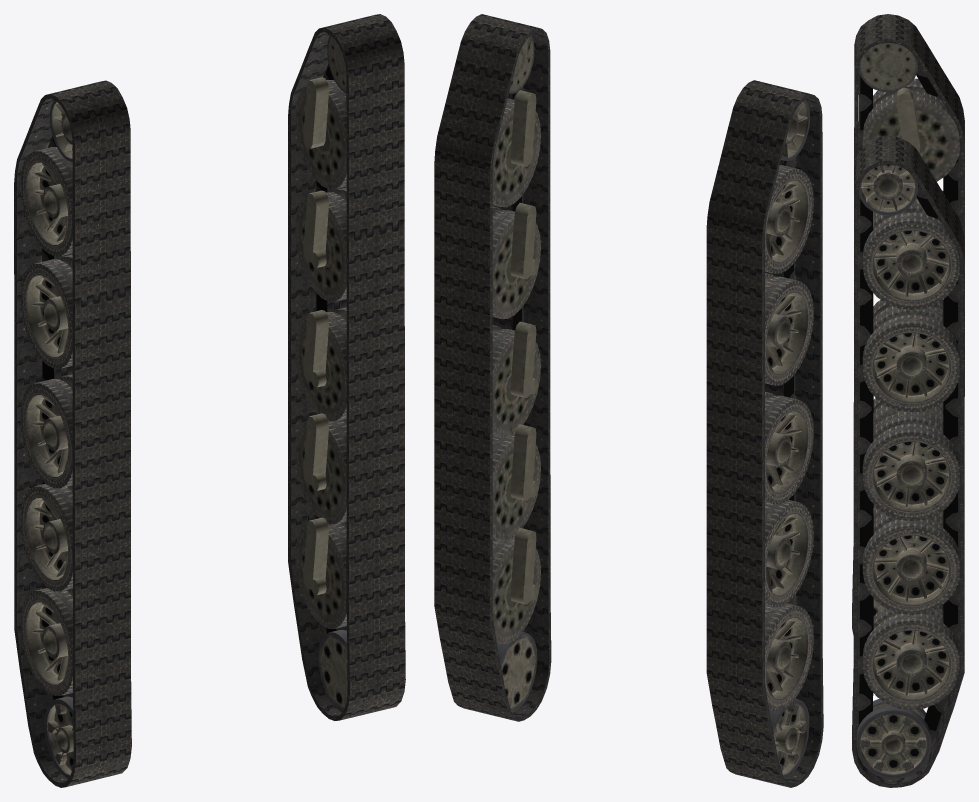
File: Chassis.glb
3 views of the same model, side by side, from view 1: azimuth 30°, elevation 25°; view 2: azimuth 150°, elevation 25°; view 3: azimuth 270°, elevation 25° (orthographic). The views are drawn at different scales.
Parts seen in each view (by area): view 1: set_2_group_0, set_3_group_0, set_1_group_0, set_0_group_0; view 2: set_3_group_0, set_2_group_0, set_0_group_0, set_1_group_0; view 3: set_0_group_0, set_2_group_0, set_1_group_0, set_3_group_0.
Boxes of the visible parts, bbox=[...] form: set_2_group_0: bbox=[288, 14, 405, 720]; set_3_group_0: bbox=[14, 80, 131, 787]; set_1_group_0: bbox=[21, 100, 73, 778]; set_0_group_0: bbox=[295, 35, 347, 712]; set_3_group_0: bbox=[706, 80, 823, 787]; set_2_group_0: bbox=[434, 14, 551, 721]; set_0_group_0: bbox=[492, 35, 540, 712]; set_1_group_0: bbox=[765, 100, 813, 778]; set_0_group_0: bbox=[856, 164, 959, 778]; set_2_group_0: bbox=[852, 136, 964, 787]; set_1_group_0: bbox=[858, 43, 959, 616]; set_3_group_0: bbox=[852, 14, 964, 635].
Size of the model in its own units: 2.95 by 5.9 by 0.9603.
4 materials, 4 textured.
